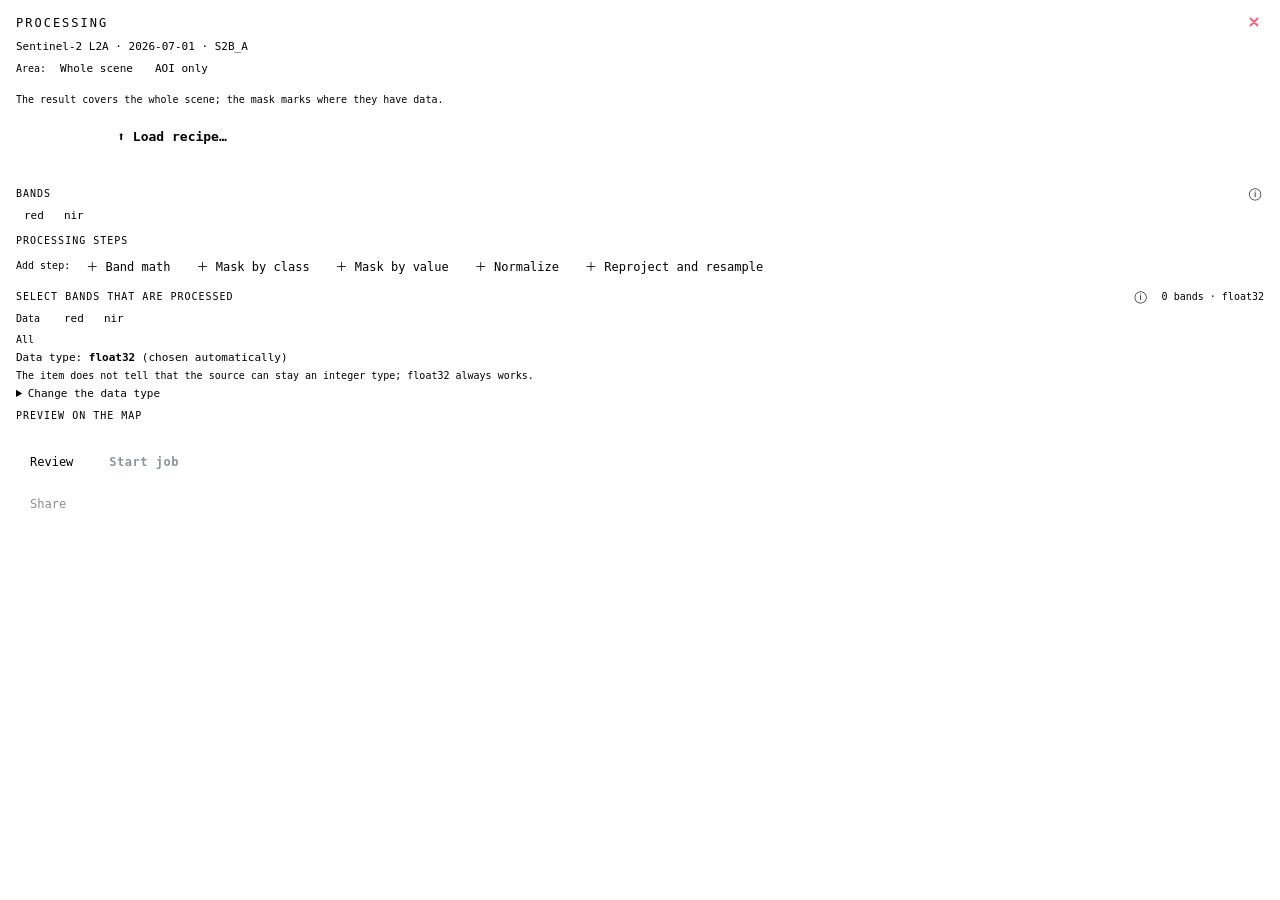
Test: the preview section › says nothing before there is a step, and asks to complete the first one
The image size is (1280, 900).
Click the button "＋ Band math". click: point(128, 266)
box: [76,252,180,279]
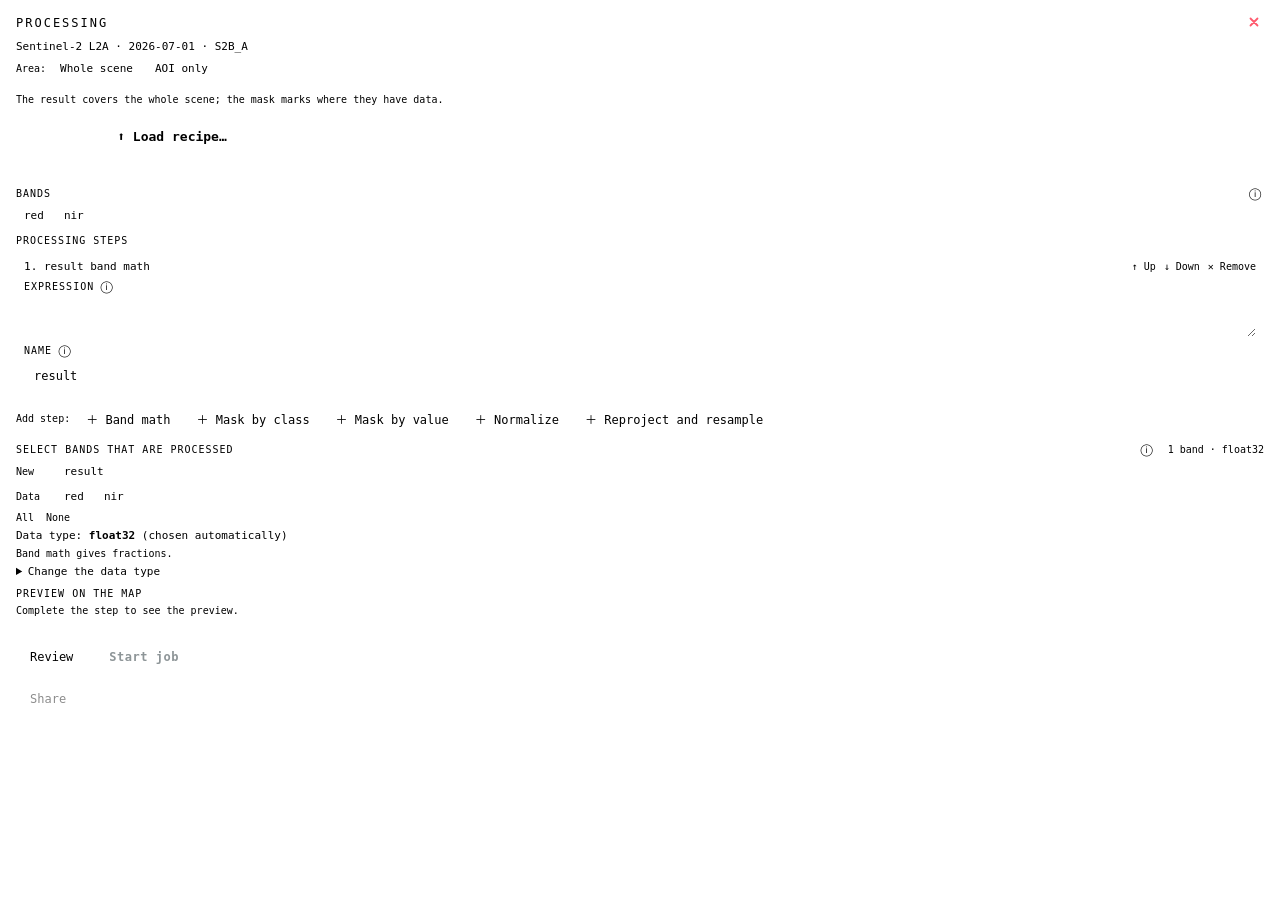
Check: the element named "Preview on the map" shows "Complete the step to see the preview.", box [16,605,239,616]
